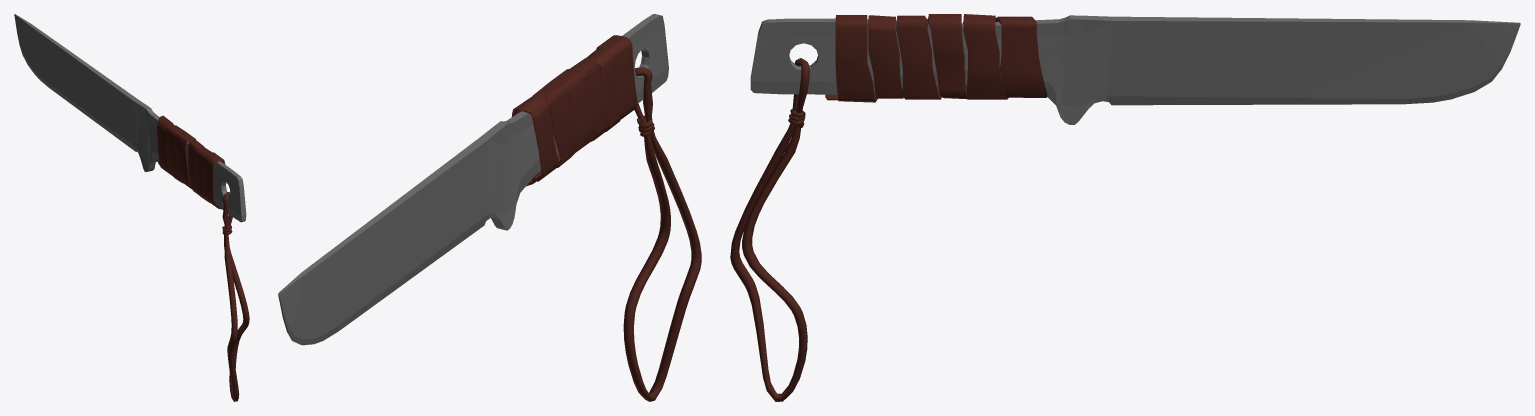
The model's file is Knife_LowPoly_OfficialFBX.fbx.
The picture shows the model from 3 angles, left to right: view 1: azimuth 30°, elevation 25°; view 2: azimuth 150°, elevation 25°; view 3: azimuth 270°, elevation 25°; orthographic projection. The views are drawn at different scales.
Parts seen in each view (by area): view 1: Blade_low, Strap_low, Rope_low; view 2: Blade_low, Strap_low, Rope_low; view 3: Blade_low, Strap_low, Rope_low.
Boxes of the visible parts, bbox=[...] form: Blade_low: bbox=[14, 14, 246, 222]; Strap_low: bbox=[157, 115, 225, 209]; Rope_low: bbox=[222, 192, 249, 401]; Blade_low: bbox=[278, 14, 668, 345]; Strap_low: bbox=[511, 35, 637, 186]; Rope_low: bbox=[623, 67, 701, 401]; Blade_low: bbox=[750, 15, 1520, 124]; Strap_low: bbox=[825, 14, 1047, 102]; Rope_low: bbox=[730, 58, 809, 401].
Bounding box in the file's own units: 0.6905 × 5.76 × 10.72.
